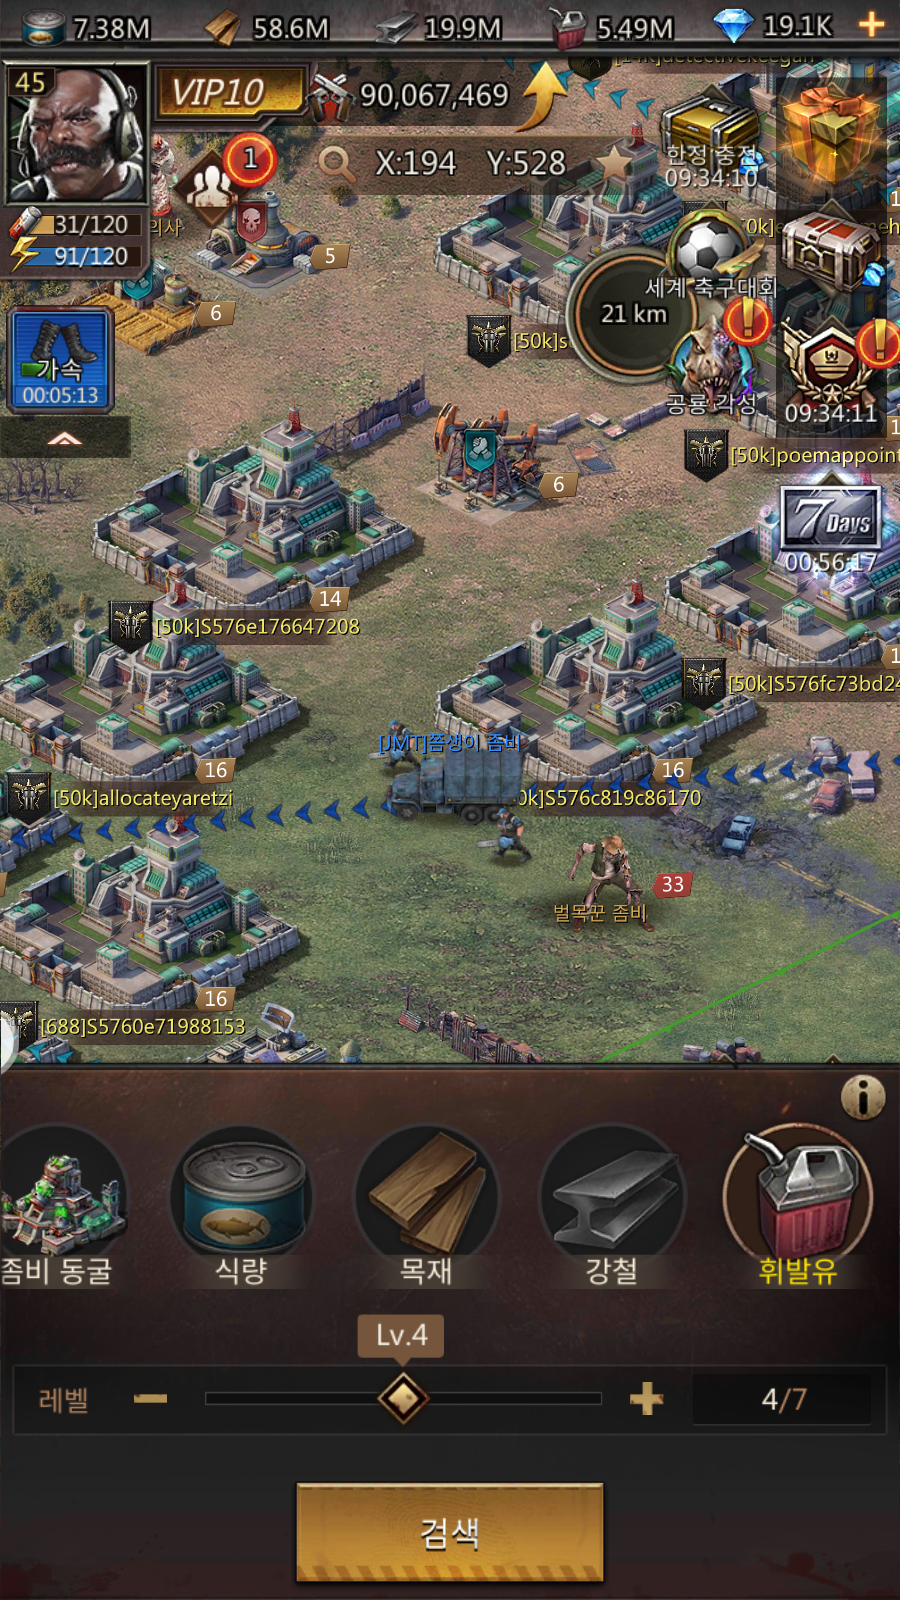rss_food_in_panel: (171, 1122, 319, 1298)
rss_gas_in_panel: (720, 1122, 881, 1298)
rss_lv4: (356, 1312, 448, 1356)
rss_minus_in_panel: (124, 1366, 176, 1430)
rss_plus_in_panel: (614, 1368, 678, 1430)
rss_search_in_panel: (297, 1481, 607, 1580)
rss_steel_in_panel: (538, 1120, 688, 1295)
rss_wood_in_panel: (356, 1124, 498, 1296)
troops_cnt_1: (166, 120, 288, 247)
